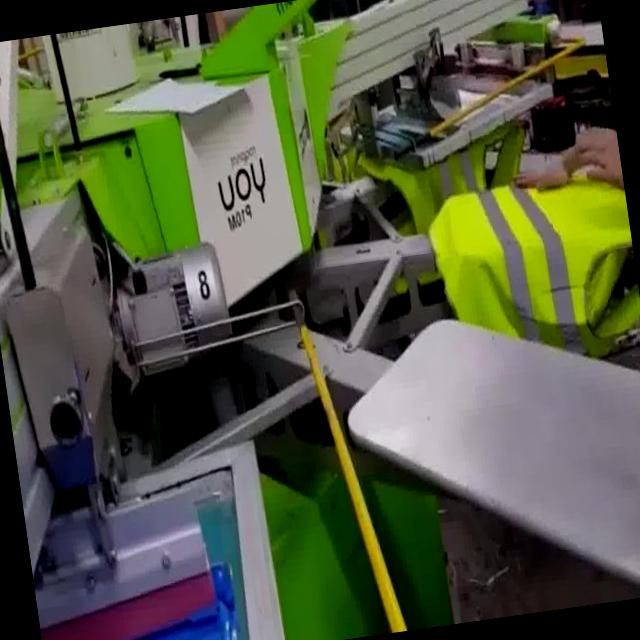vest: (423, 168, 640, 379)
